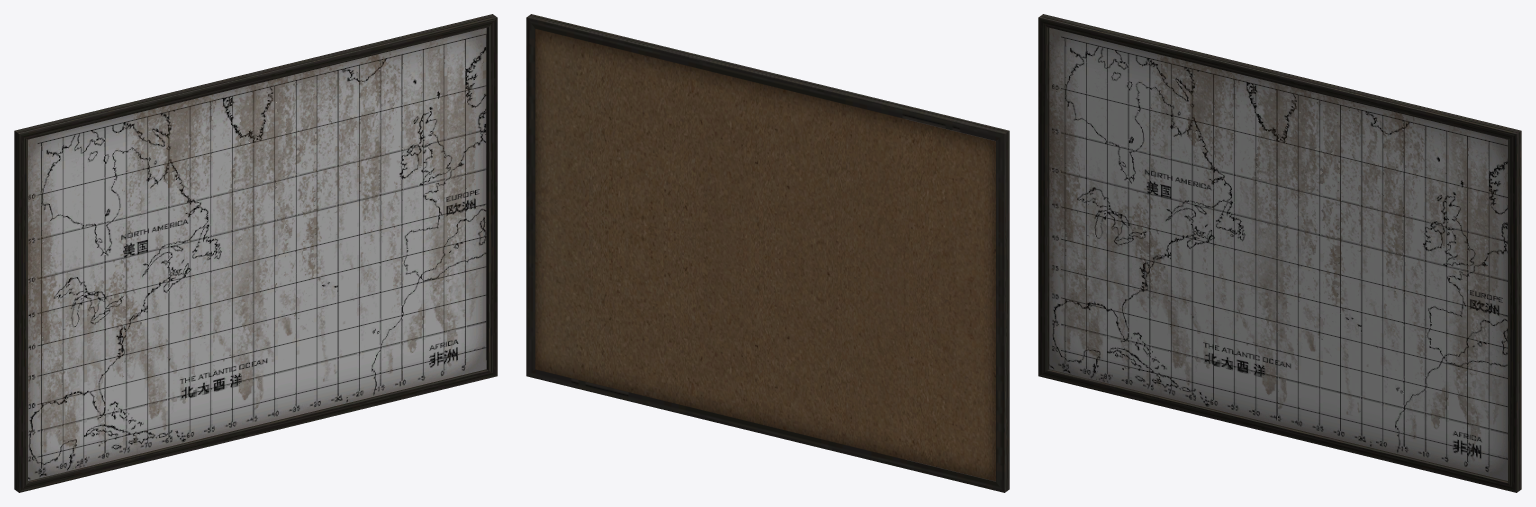
Rendered from control_map.dae.
The picture shows the model from 3 angles, left to right: view 1: azimuth 30°, elevation 25°; view 2: azimuth 150°, elevation 25°; view 3: azimuth 330°, elevation 25°; orthographic projection.
Parts seen in each view (by area): view 1: polySurface2; view 2: polySurface2; view 3: polySurface2.
Part boxes in pixels (left/top/right/bottom): polySurface2: left=14, top=14, right=497, bottom=492; polySurface2: left=526, top=14, right=1009, bottom=492; polySurface2: left=1038, top=14, right=1521, bottom=492.
Size of the model in its own units: 1.39 by 1 by 0.0241.
